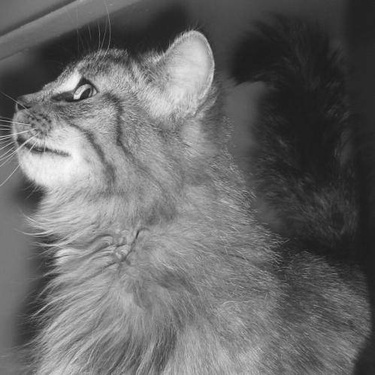cat: (10, 15, 369, 372)
